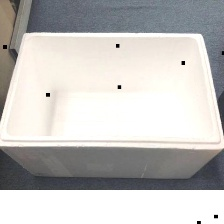foam_box: (0, 27, 224, 183)
